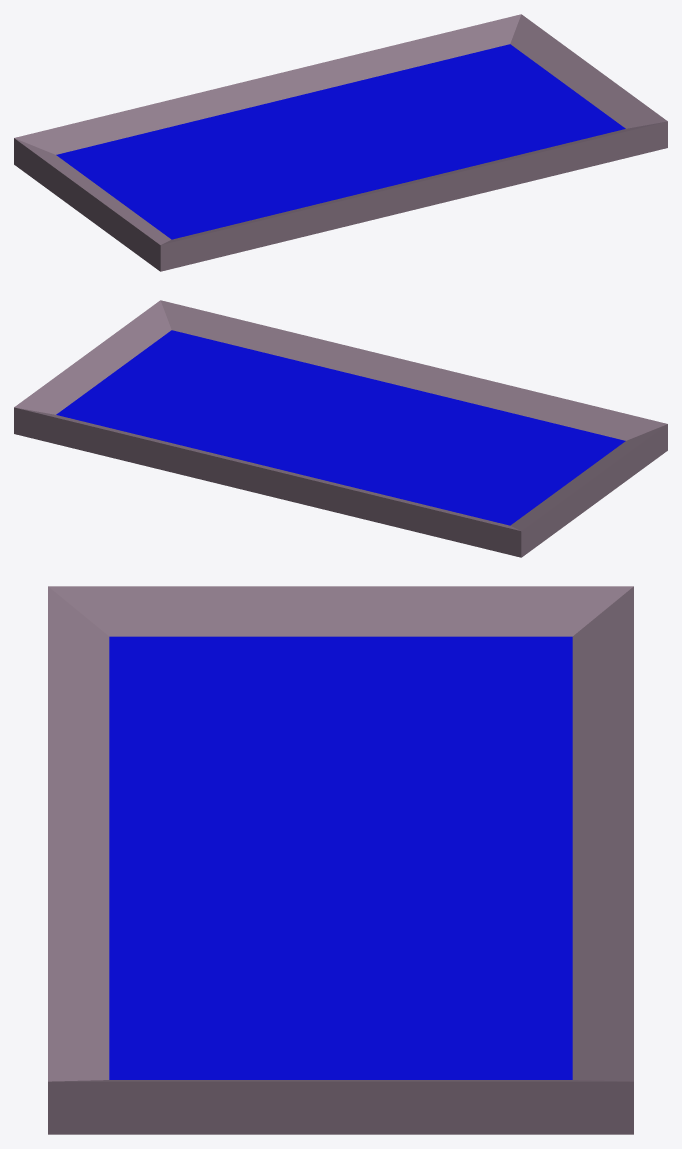
The picture shows the model from 3 angles, top to bottom: view 1: azimuth 30°, elevation 25°; view 2: azimuth 150°, elevation 25°; view 3: azimuth 270°, elevation 25°; orthographic projection. The views are drawn at different scales.
Parts seen in each view (by area): view 1: TV; view 2: TV; view 3: TV.
Part boxes in pixels (x1,y1,x2,y2): TV: (14,14,667,271); TV: (14,300,667,557); TV: (48,586,633,1134).
Size of the model in its own units: 4 by 2 by 0.2.
